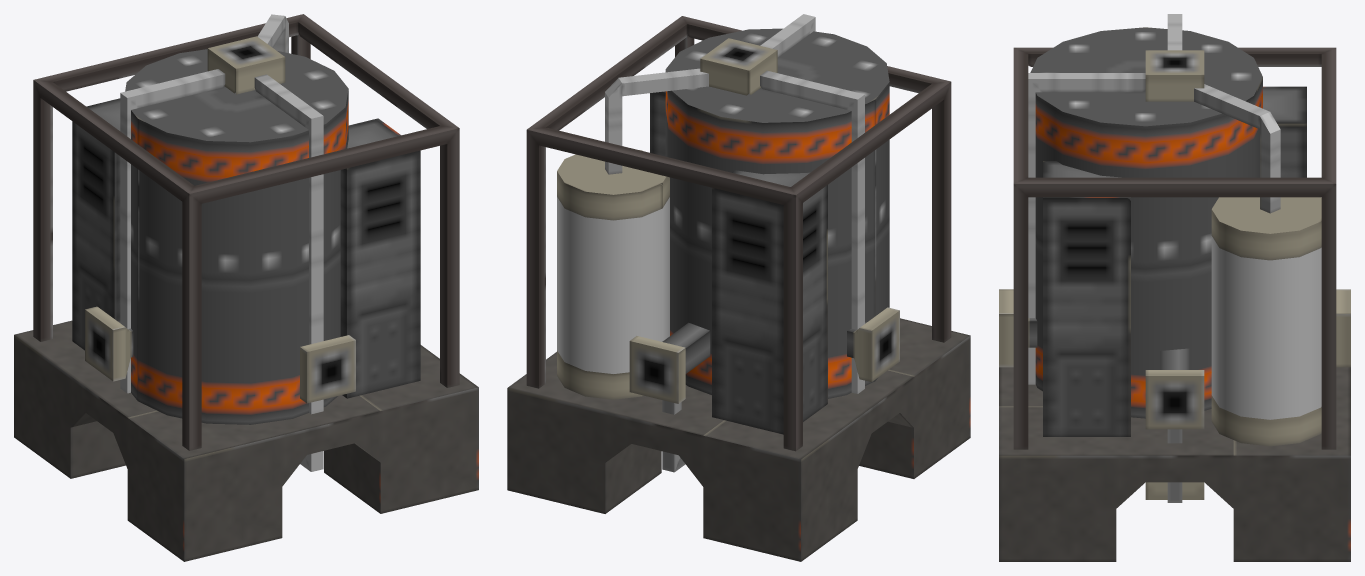
The model's file is solidifier.obj.
3 views of the same model, side by side, from view 1: azimuth 30°, elevation 25°; view 2: azimuth 150°, elevation 25°; view 3: azimuth 270°, elevation 25° (orthographic). The views are drawn at different scales.
Visible parts, largest first — view 1: Main; view 2: Main, Glass; view 3: Main, Glass.
Boxes of the visible parts, x1,y1,x2,y2 form: Main: (14, 14, 478, 561); Main: (507, 14, 970, 561); Glass: (557, 197, 669, 373); Main: (999, 14, 1350, 561); Glass: (1211, 236, 1321, 419).
Size of the model in its own units: 3 by 4 by 3.
